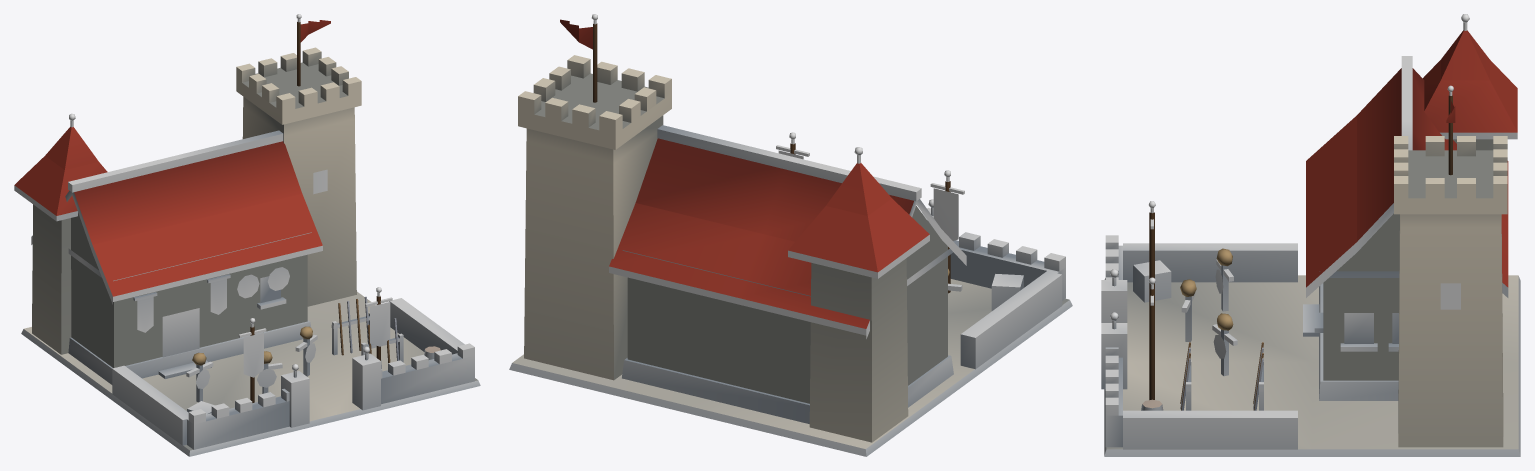
File: barracks_t4.glb
The picture shows the model from 3 angles, left to right: view 1: azimuth 30°, elevation 25°; view 2: azimuth 150°, elevation 25°; view 3: azimuth 270°, elevation 25°; orthographic projection. The views are drawn at different scales.
Parts seen in each view (by area): view 1: barracks_t4; view 2: barracks_t4; view 3: barracks_t4.
Part boxes in pixels (x1=…): barracks_t4: x1=14, y1=14, x2=480, y2=456; barracks_t4: x1=509, y1=14, x2=1072, y2=456; barracks_t4: x1=1101, y1=14, x2=1520, y2=456.
Bounding box in the file's own units: 2.94 × 2.62 × 2.88.
